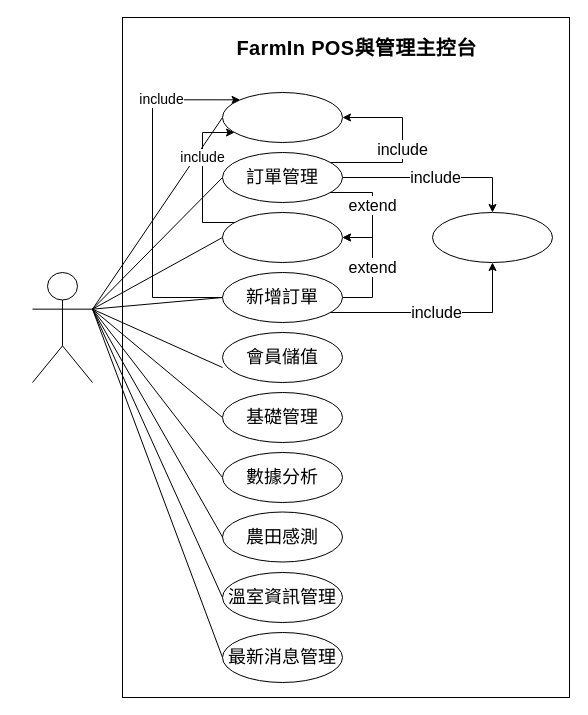
The diagram is 588 pixels wide and 715 high, and some of its shapes have lost their labels. Each missing label, with the box of its shape:
印出預訂單: (432, 212, 552, 262)
庫存管理: (222, 92, 342, 142)
溫室管理者: (32, 272, 92, 382)
銷貨交易: (222, 212, 342, 262)
